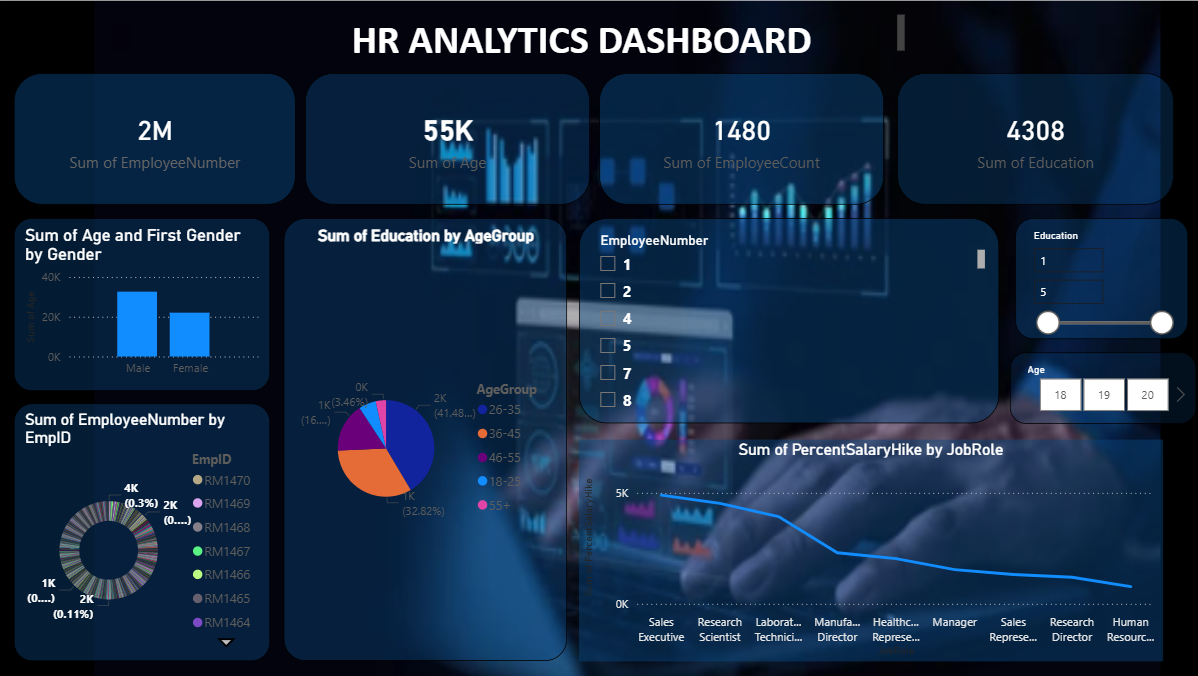

The page's visual inventory and layout, read from the dashboard file:
{"tool":"powerbi","page":{"name":"Page 1","canvas":[1280,720],"ordinal":0},"visuals":[{"type":"card","fields":{"Values":["Sum(HR_Analytics -Asna.EmployeeNumber)"]},"box":[17.1,77.1,300,140],"z":0},{"type":"pieChart","fields":{"Category":["HR_Analytics -Asna.AgeGroup"],"Y":["Sum(HR_Analytics -Asna.Education)"]},"box":[304.3,231.4,301.4,471.4],"z":1000},{"type":"donutChart","fields":{"Category":["HR_Analytics -Asna.EmpID"],"Y":["Sum(HR_Analytics -Asna.EmployeeNumber)"]},"box":[17.1,428.6,272.9,274.3],"z":2000},{"type":"clusteredColumnChart","fields":{"Y":["Sum(HR_Analytics -Asna.Age)"],"Category":["HR_Analytics -Asna.Gender"]},"box":[17.1,231.4,272.9,184.3],"z":3000},{"type":"slicer","fields":{"Values":["HR_Analytics -Asna.Age"]},"box":[1077.1,374.3,198.6,75.7],"z":4000},{"type":"slicer","fields":{"Values":["HR_Analytics -Asna.Education"]},"box":[1082.9,231.4,184.3,128.6],"z":5000},{"type":"slicer","fields":{"Values":["HR_Analytics -Asna.EmployeeNumber"]},"box":[618.6,231.4,447.1,218.6],"z":6000},{"type":"card","fields":{"Values":["Sum(HR_Analytics -Asna.Education)"]},"box":[957.1,77.1,294.3,140],"z":7000},{"type":"card","fields":{"Values":["Sum(HR_Analytics -Asna.Age)"]},"box":[327.1,77.1,302.9,140],"z":8000},{"type":"card","fields":{"Values":["Sum(HR_Analytics -Asna.EmployeeCount)"]},"box":[640,77.1,302.9,140],"z":9000},{"type":"textbox","box":[290,10,680,78.6],"z":10000},{"type":"lineChart","fields":{"Category":["HR_Analytics -Asna.JobRole"],"Y":["Sum(HR_Analytics -Asna.PercentSalaryHike)"]},"box":[618.6,467.1,621.4,235.7],"z":10001}]}

Visuals, with their boxes in screenshot pixels (x1, y1, x2, y2), scaled from the page's 1280x720 canvas onto the 1198x676 screenshot:
card - Sum(HR_Analytics -Asna.EmployeeNumber): {"left": 16, "top": 72, "right": 297, "bottom": 204}
pieChart - HR_Analytics -Asna.AgeGroup x Sum(HR_Analytics -Asna.Education): {"left": 285, "top": 217, "right": 567, "bottom": 660}
donutChart - HR_Analytics -Asna.EmpID x Sum(HR_Analytics -Asna.EmployeeNumber): {"left": 16, "top": 402, "right": 271, "bottom": 660}
clusteredColumnChart - Sum(HR_Analytics -Asna.Age) x HR_Analytics -Asna.Gender: {"left": 16, "top": 217, "right": 271, "bottom": 390}
slicer - HR_Analytics -Asna.Age: {"left": 1008, "top": 351, "right": 1194, "bottom": 422}
slicer - HR_Analytics -Asna.Education: {"left": 1014, "top": 217, "right": 1186, "bottom": 338}
slicer - HR_Analytics -Asna.EmployeeNumber: {"left": 579, "top": 217, "right": 997, "bottom": 422}
card - Sum(HR_Analytics -Asna.Education): {"left": 896, "top": 72, "right": 1171, "bottom": 204}
card - Sum(HR_Analytics -Asna.Age): {"left": 306, "top": 72, "right": 590, "bottom": 204}
card - Sum(HR_Analytics -Asna.EmployeeCount): {"left": 599, "top": 72, "right": 882, "bottom": 204}
textbox: {"left": 271, "top": 9, "right": 908, "bottom": 83}
lineChart - HR_Analytics -Asna.JobRole x Sum(HR_Analytics -Asna.PercentSalaryHike): {"left": 579, "top": 439, "right": 1161, "bottom": 660}
